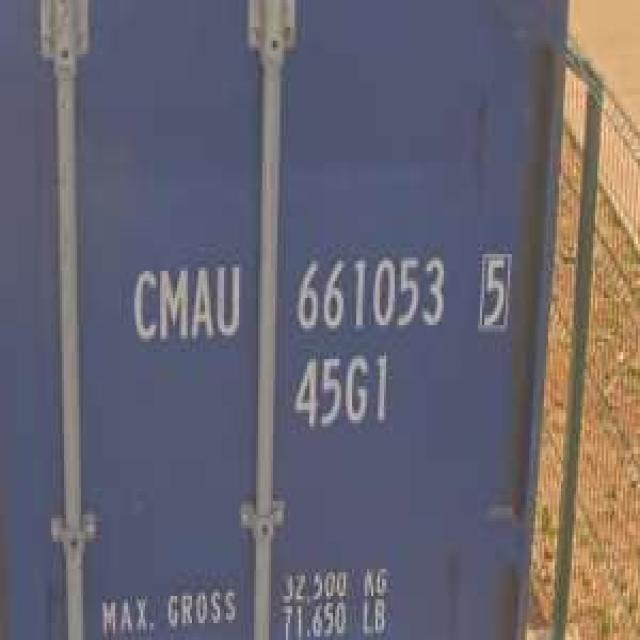dv: (475, 240, 514, 338)
owner: (127, 253, 242, 351)
serial: (291, 247, 450, 337)
size: (287, 348, 394, 431)
